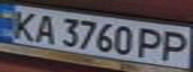0: (112, 24, 139, 56)
3: (54, 15, 81, 48)
6: (93, 20, 115, 54)
7: (75, 18, 96, 51)
A: (30, 11, 60, 44)
K: (6, 8, 42, 42)
P: (157, 28, 193, 63), (133, 26, 166, 60)
